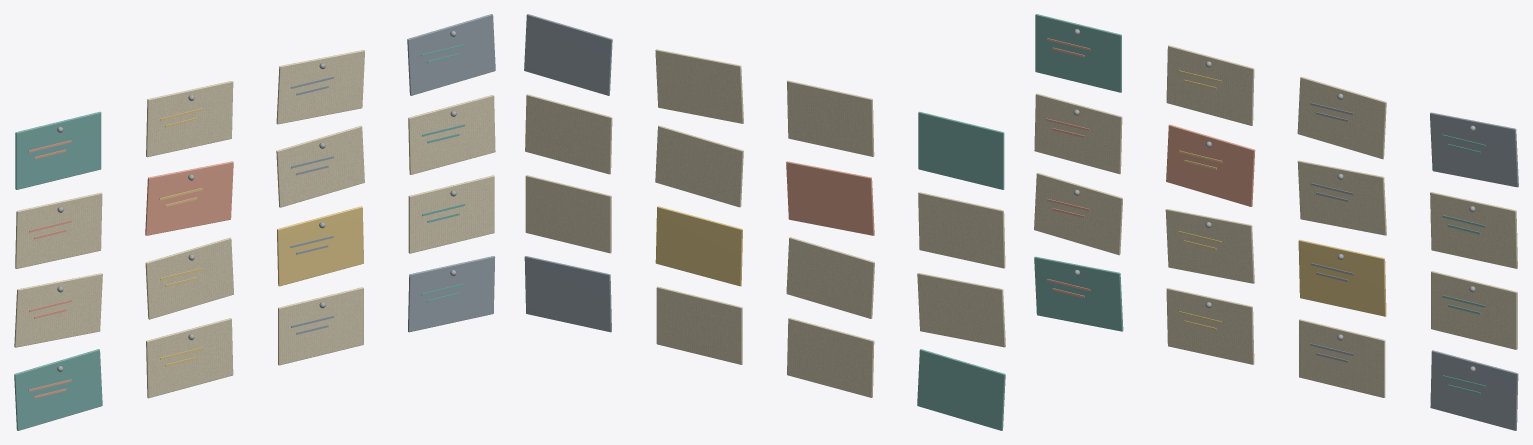
The model's file is mobile-idea-board-v1.glb.
The picture shows the model from 3 angles, left to right: view 1: azimuth 30°, elevation 25°; view 2: azimuth 150°, elevation 25°; view 3: azimuth 330°, elevation 25°; orthographic projection.
Visible parts, largest first — view 1: Pinned idea card; view 2: Pinned idea card; view 3: Pinned idea card.
Boxes of the visible parts, x1,y1,x2,y2 form: Pinned idea card: (14, 14, 495, 430); Pinned idea card: (524, 14, 1005, 430); Pinned idea card: (1034, 14, 1518, 430).
Size of the model in its own units: 1.58 by 0.9436 by 0.0245.
Materials: 6 (1 with a texture image).
